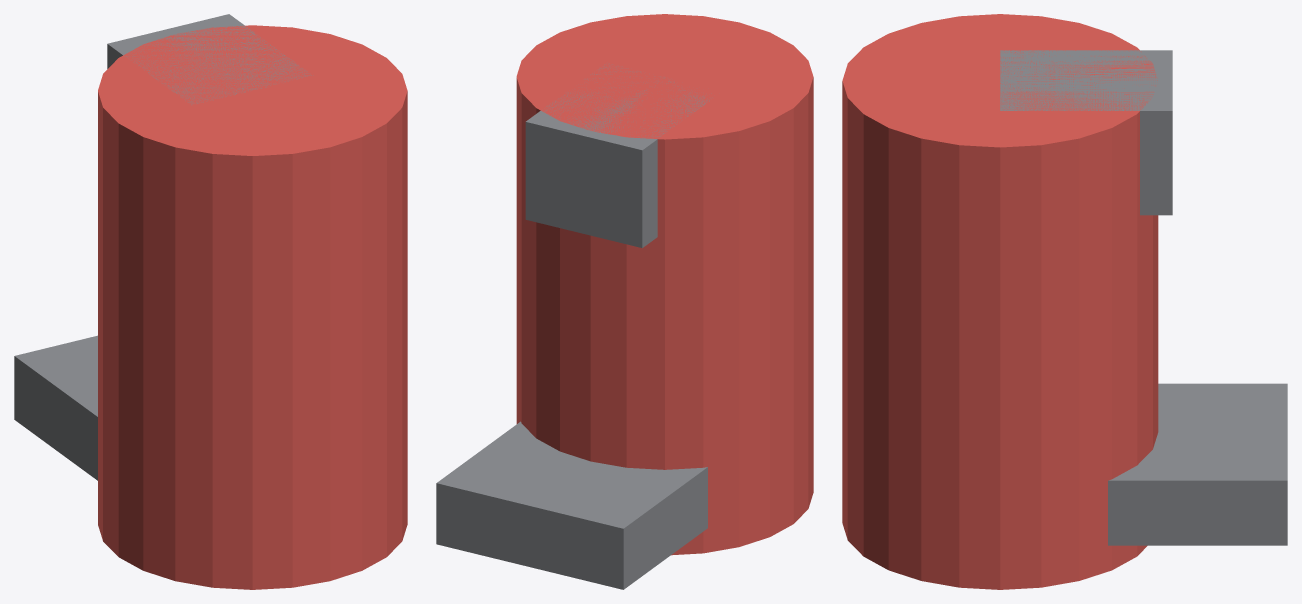
The model's file is coffee_machine-PRIM-003.glb.
3 views of the same model, side by side, from view 1: azimuth 30°, elevation 25°; view 2: azimuth 150°, elevation 25°; view 3: azimuth 270°, elevation 25° (orthographic). The views are drawn at different scales.
Visible parts, largest first — view 1: p0, p1, p2; view 2: p0, p1, p2; view 3: p0, p1, p2.
Part boxes in pixels (box(x1,y1,x2,y2)): p0: box(98, 25, 407, 589); p1: box(14, 335, 97, 480); p2: box(107, 14, 313, 104); p0: box(516, 14, 813, 555); p1: box(436, 421, 707, 589); p2: box(525, 63, 712, 247); p0: box(842, 14, 1158, 589); p1: box(1108, 383, 1287, 545); p2: box(1000, 50, 1172, 215).
Size of the model in its own units: 0.22 by 0.34 by 0.31.
